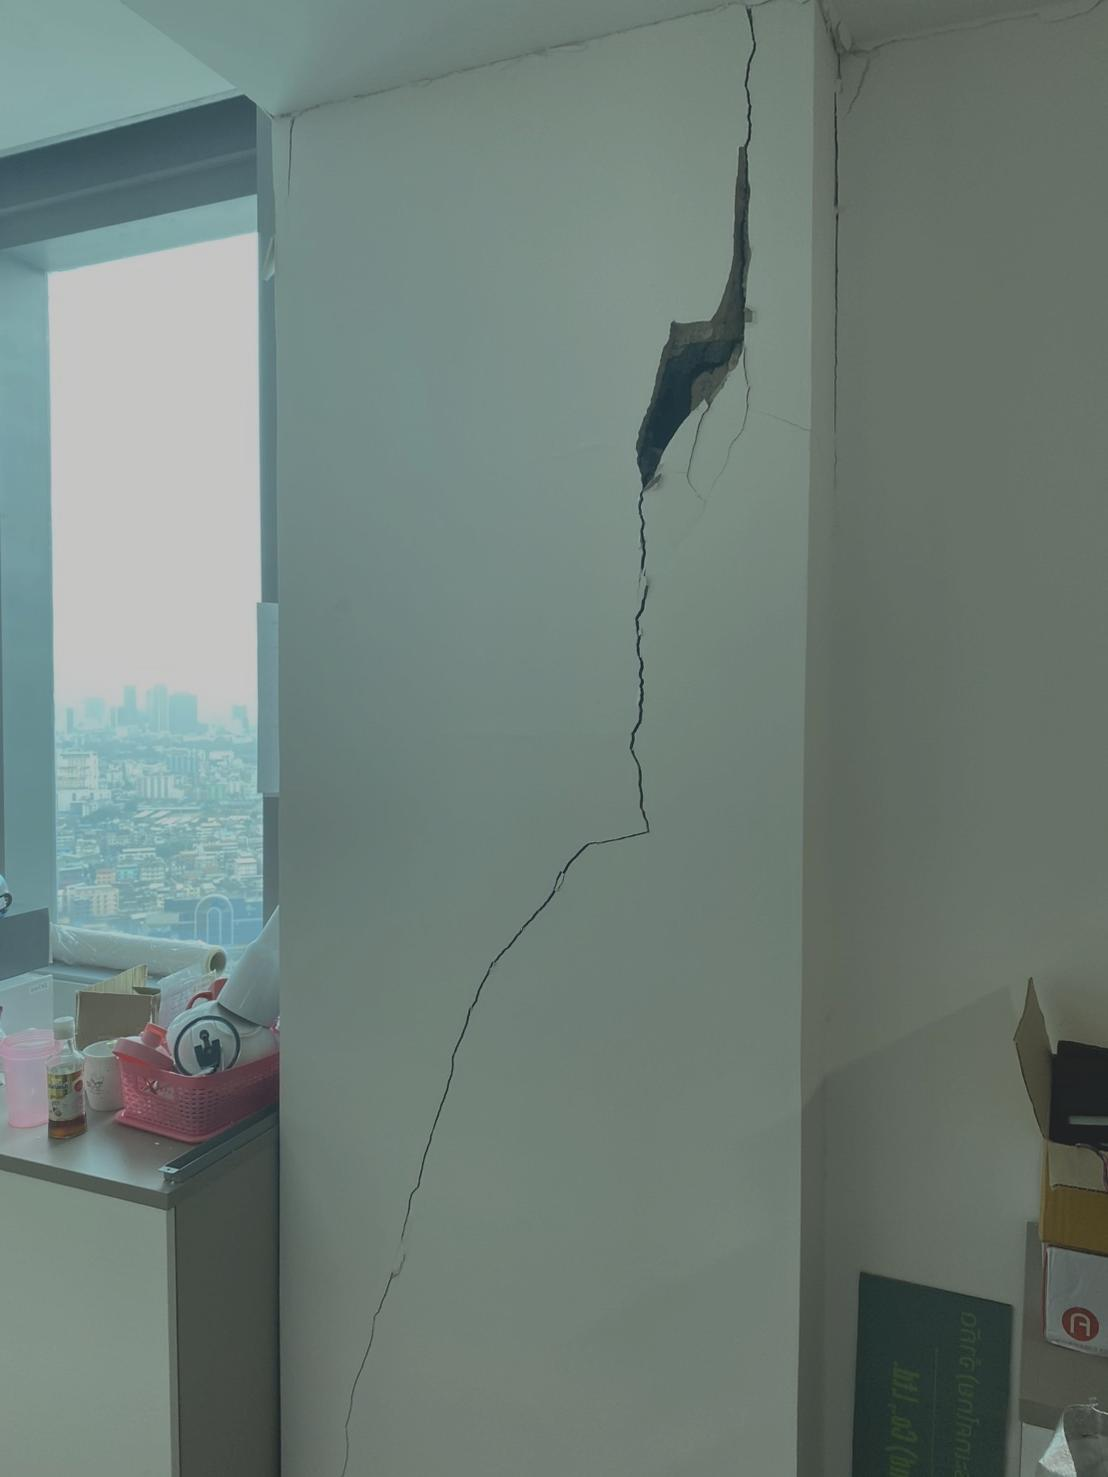High: (275, 7, 769, 1475)
